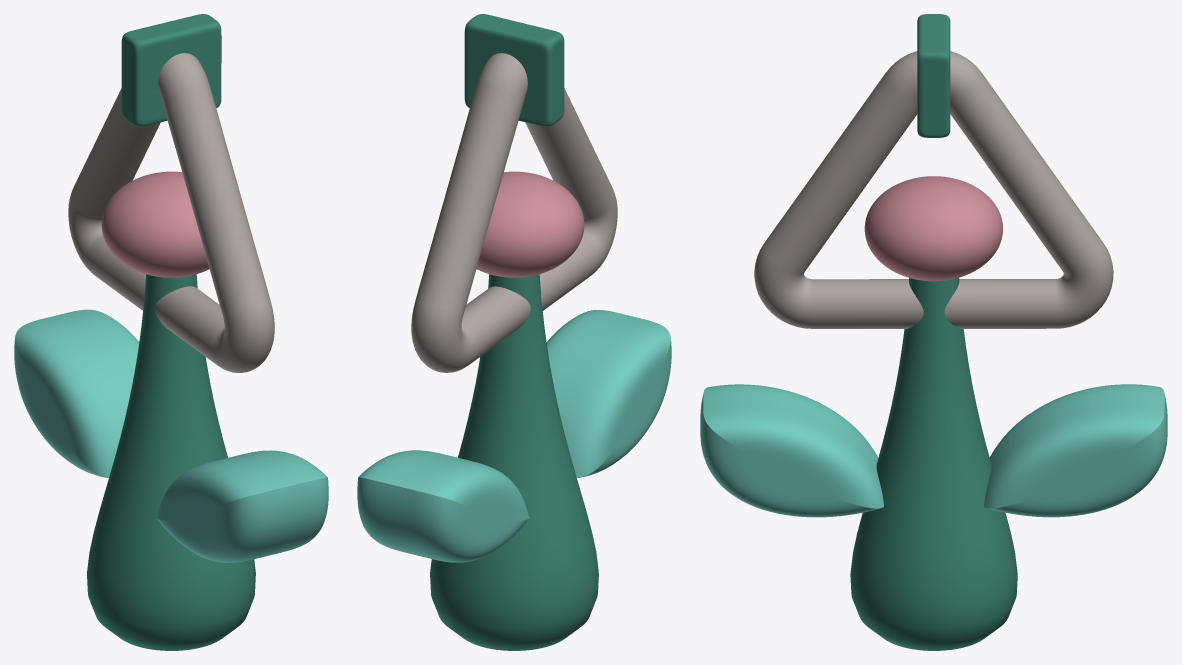
File: triangle 1.fbx
3 renders of one model, left to right at view 1: azimuth 30°, elevation 25°; view 2: azimuth 150°, elevation 25°; view 3: azimuth 270°, elevation 25°, orthographic.
Parts seen in each view (by area): view 1: Object_4, Object_7, Object_3, Object_1, Object_6, Object_5; view 2: Object_4, Object_7, Object_1, Object_3, Object_6, Object_5; view 3: Object_7, Object_4, Object_1, Object_3, Object_6, Object_5.
Boxes of the visible parts, x1,y1,x2,y2 form: Object_4: (87,274,255,650); Object_7: (68,53,274,372); Object_3: (14,309,139,478); Object_1: (156,450,328,562); Object_6: (101,171,209,277); Object_5: (121,14,221,126); Object_4: (430,274,598,650); Object_7: (411,53,617,372); Object_1: (546,310,671,478); Object_3: (357,450,529,562); Object_6: (476,171,584,277); Object_5: (464,14,564,126); Object_7: (754,51,1113,328); Object_4: (850,278,1017,650); Object_1: (700,384,883,517); Object_3: (984,384,1167,517); Object_6: (864,176,1002,281); Object_5: (917,14,950,137).
Size of the model in its own units: 726 by 2886 by 2026.
